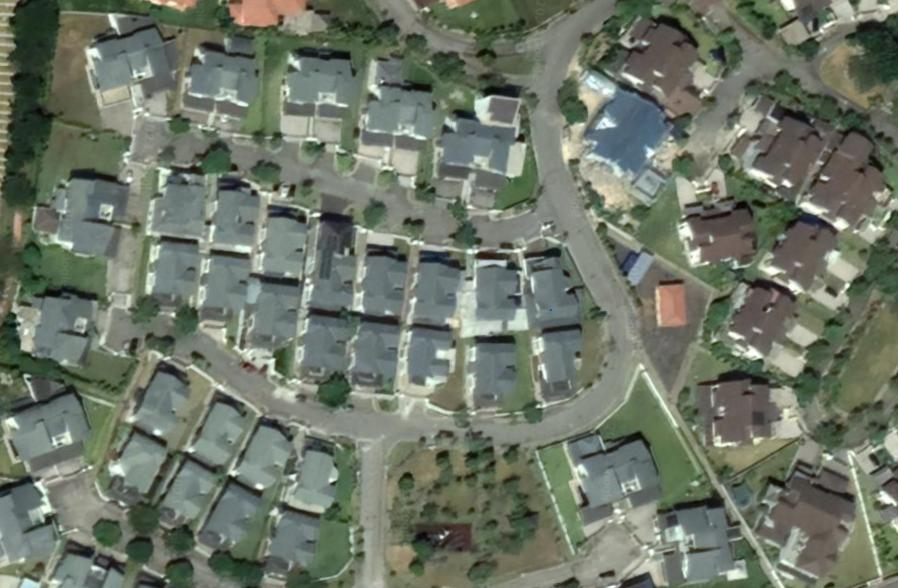building: (746, 450, 864, 587), (704, 270, 840, 386), (708, 80, 838, 201), (753, 207, 876, 316), (798, 118, 898, 248), (568, 80, 684, 191), (608, 8, 710, 132), (688, 371, 808, 454), (122, 351, 204, 450), (671, 189, 763, 275), (19, 368, 98, 467), (23, 198, 128, 266), (96, 422, 176, 511), (184, 384, 262, 473), (0, 476, 68, 578), (469, 91, 532, 199), (558, 428, 622, 532), (192, 476, 269, 559), (521, 242, 592, 331), (229, 412, 304, 496), (278, 429, 347, 519), (235, 271, 308, 356), (139, 160, 216, 238), (304, 204, 359, 311), (152, 455, 225, 535), (121, 16, 186, 102), (255, 504, 327, 581), (610, 427, 670, 514), (652, 494, 744, 550), (525, 321, 591, 399), (356, 239, 418, 322), (355, 54, 406, 153), (345, 317, 407, 398), (9, 323, 98, 379), (254, 204, 313, 284), (48, 174, 135, 228), (465, 329, 523, 410), (9, 288, 104, 337), (194, 246, 255, 322), (140, 237, 206, 307), (654, 541, 751, 588), (400, 321, 461, 394), (410, 248, 471, 321), (291, 309, 352, 379), (0, 397, 52, 479), (470, 249, 524, 327), (209, 179, 266, 251), (221, 29, 264, 124), (275, 44, 325, 122), (83, 28, 137, 100), (434, 108, 482, 189), (394, 78, 442, 156), (316, 46, 359, 131), (179, 41, 222, 120)
